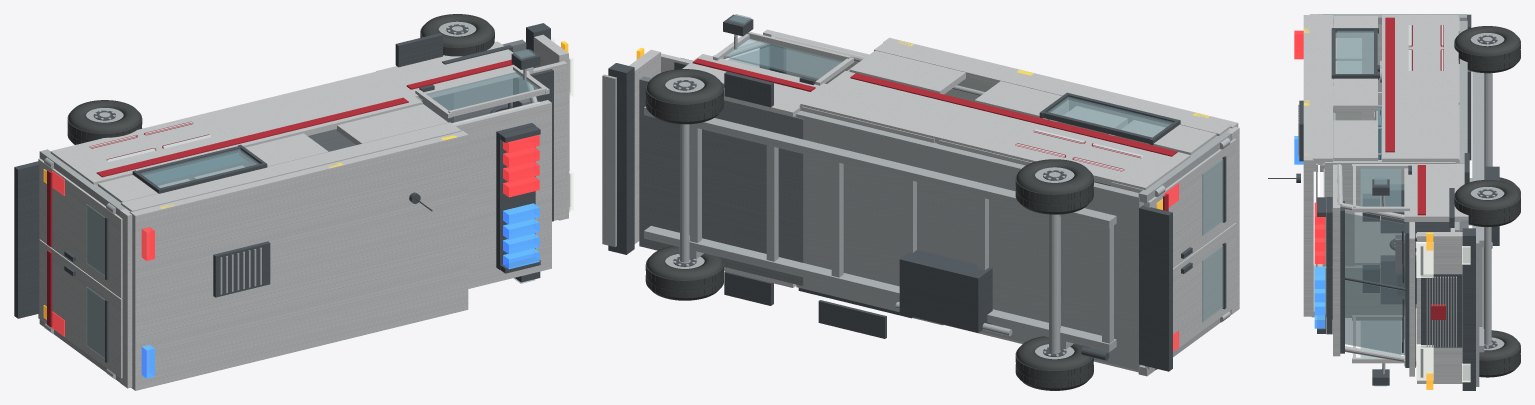
File: PZ_Greyhaven_EMS_Ambulance_07.glb
3 renders of one model, left to right at view 1: azimuth 30°, elevation 25°; view 2: azimuth 150°, elevation 25°; view 3: azimuth 270°, elevation 25°, orthographic. The views are drawn at different scales.
Visible parts, largest first — view 1: RENDER_GREYHAVEN_EMS_AMBULANCE_07_PATIENT_ROOF_STRUCTURAL_PA, RENDER_GREYHAVEN_EMS_AMBULANCE_07_PATIENT_LEFT_SOLID_LOWER, RENDER_GREYHAVEN_EMS_AMBULANCE_07_CAB_ROOF_SKIN, RENDER_GREYHAVEN_EMS_AMBULANCE_07_REAR_DOOR_SHELL_LEFT, RENDER_GREYHAVEN_EMS_AMBULANCE_07_REAR_DOOR_SHELL_RIGHT, RENDER_GREYHAVEN_EMS_AMBULANCE_07_PATIENT_LEFT_TOP_RAIL, RENDER_GREYHAVEN_EMS_AMBULANCE_07_REAR_STEP, RENDER_GREYHAVEN_EMS_AMBULANCE_07_CAB_DOOR_LOWER_1, RENDER_GREYHAVEN_EMS_AMBULANCE_07_FRONT_ENGINE_BONNET, RENDER_GREYHAVEN_EMS_AMBULANCE_07_PATIENT_LEFT_UPPER_PANEL_F, RENDER_GREYHAVEN_EMS_AMBULANCE_07_SIDE_RESCUE_STRIPE_L, RENDER_GREYHAVEN_EMS_AMBULANCE_07_CAB_DOOR_WINDOW_1 (+30 smaller); view 2: RENDER_GREYHAVEN_EMS_AMBULANCE_07_PATIENT_BAY_SUBFLOOR, RENDER_GREYHAVEN_EMS_AMBULANCE_07_CAB_FLOOR_PANEL, RENDER_GREYHAVEN_EMS_AMBULANCE_07_PATIENT_LEFT_SOLID_LOWER, RENDER_GREYHAVEN_EMS_AMBULANCE_07_FUEL_TANK, RENDER_GREYHAVEN_EMS_AMBULANCE_07_MAIN_CHASSIS_BEAM_LEFT, RENDER_GREYHAVEN_EMS_AMBULANCE_07_REAR_STEP, RENDER_GREYHAVEN_EMS_AMBULANCE_07_REAR_DOOR_SHELL_LEFT, RENDER_GREYHAVEN_EMS_AMBULANCE_07_MAIN_CHASSIS_BEAM_RIGHT, RENDER_GREYHAVEN_EMS_AMBULANCE_07_REAR_DOOR_SHELL_RIGHT, RENDER_GREYHAVEN_EMS_AMBULANCE_07_PATIENT_LEFT_TOP_RAIL, RENDER_GREYHAVEN_EMS_AMBULANCE_07_FRONT_LOWER_BUMPER, RENDER_GREYHAVEN_EMS_AMBULANCE_07_PATIENT_LEFT_UPPER_PANEL_F (+42 smaller); view 3: RENDER_GREYHAVEN_EMS_AMBULANCE_07_PATIENT_LEFT_SOLID_LOWER, RENDER_GREYHAVEN_EMS_AMBULANCE_07_WINDSHIELD_GLASS_-1, RENDER_GREYHAVEN_EMS_AMBULANCE_07_WINDSHIELD_GLASS_1, RENDER_GREYHAVEN_EMS_AMBULANCE_07_BULKHEAD_WITH_CAB_PASSAGE_ (×2), RENDER_GREYHAVEN_EMS_AMBULANCE_07_PATIENT_ROOF_STRUCTURAL_PA, RENDER_GREYHAVEN_EMS_AMBULANCE_07_PATIENT_LEFT_TOP_RAIL, RENDER_GREYHAVEN_EMS_AMBULANCE_07_FRONT_CRASH_PANEL, RENDER_GREYHAVEN_EMS_AMBULANCE_07_CAB_DOOR_LOWER_1, RENDER_GREYHAVEN_EMS_AMBULANCE_07_GRILLE_RECESSED_FRAME, RENDER_GREYHAVEN_EMS_AMBULANCE_07_FRONT_LOWER_BUMPER, RENDER_GREYHAVEN_EMS_AMBULANCE_07_PATIENT_LEFT_UPPER_PANEL_F, RENDER_GREYHAVEN_EMS_AMBULANCE_07_PATIENT_LEFT_GLASS (+57 smaller).
Boxes of the visible parts, <box> form: RENDER_GREYHAVEN_EMS_AMBULANCE_07_PATIENT_ROOF_STRUCTURAL_PA: <box>129,130,468,390</box>; RENDER_GREYHAVEN_EMS_AMBULANCE_07_PATIENT_LEFT_SOLID_LOWER: <box>50,70,422,185</box>; RENDER_GREYHAVEN_EMS_AMBULANCE_07_CAB_ROOF_SKIN: <box>454,100,551,288</box>; RENDER_GREYHAVEN_EMS_AMBULANCE_07_REAR_DOOR_SHELL_LEFT: <box>38,158,122,298</box>; RENDER_GREYHAVEN_EMS_AMBULANCE_07_REAR_DOOR_SHELL_RIGHT: <box>38,239,122,378</box>; RENDER_GREYHAVEN_EMS_AMBULANCE_07_PATIENT_LEFT_TOP_RAIL: <box>121,122,461,211</box>; RENDER_GREYHAVEN_EMS_AMBULANCE_07_REAR_STEP: <box>14,161,39,318</box>; RENDER_GREYHAVEN_EMS_AMBULANCE_07_CAB_DOOR_LOWER_1: <box>376,41,533,100</box>; RENDER_GREYHAVEN_EMS_AMBULANCE_07_FRONT_ENGINE_BONNET: <box>533,61,567,220</box>; RENDER_GREYHAVEN_EMS_AMBULANCE_07_PATIENT_LEFT_UPPER_PANEL_F: <box>337,104,447,144</box>; RENDER_GREYHAVEN_EMS_AMBULANCE_07_SIDE_RESCUE_STRIPE_L: <box>96,97,408,177</box>; RENDER_GREYHAVEN_EMS_AMBULANCE_07_CAB_DOOR_WINDOW_1: <box>426,72,539,110</box>; RENDER_GREYHAVEN_EMS_AMBULANCE_07_PATIENT_BAY_SUBFLOOR: <box>796,110,1143,370</box>; RENDER_GREYHAVEN_EMS_AMBULANCE_07_CAB_FLOOR_PANEL: <box>639,76,803,285</box>; RENDER_GREYHAVEN_EMS_AMBULANCE_07_PATIENT_LEFT_SOLID_LOWER: <box>800,71,1190,189</box>; RENDER_GREYHAVEN_EMS_AMBULANCE_07_FUEL_TANK: <box>899,250,992,332</box>; RENDER_GREYHAVEN_EMS_AMBULANCE_07_MAIN_CHASSIS_BEAM_LEFT: <box>644,106,1116,228</box>; RENDER_GREYHAVEN_EMS_AMBULANCE_07_REAR_STEP: <box>1139,205,1172,371</box>; RENDER_GREYHAVEN_EMS_AMBULANCE_07_REAR_DOOR_SHELL_LEFT: <box>1145,138,1236,267</box>; RENDER_GREYHAVEN_EMS_AMBULANCE_07_MAIN_CHASSIS_BEAM_RIGHT: <box>644,226,1116,351</box>; RENDER_GREYHAVEN_EMS_AMBULANCE_07_REAR_DOOR_SHELL_RIGHT: <box>1145,223,1236,369</box>; RENDER_GREYHAVEN_EMS_AMBULANCE_07_PATIENT_LEFT_TOP_RAIL: <box>874,41,1231,135</box>; RENDER_GREYHAVEN_EMS_AMBULANCE_07_FRONT_LOWER_BUMPER: <box>608,63,634,254</box>; RENDER_GREYHAVEN_EMS_AMBULANCE_07_PATIENT_LEFT_UPPER_PANEL_F: <box>849,50,965,94</box>; RENDER_GREYHAVEN_EMS_AMBULANCE_07_PATIENT_LEFT_SOLID_LOWER: <box>1382,15,1458,163</box>; RENDER_GREYHAVEN_EMS_AMBULANCE_07_WINDSHIELD_GLASS_-1: <box>1345,280,1405,355</box>; RENDER_GREYHAVEN_EMS_AMBULANCE_07_WINDSHIELD_GLASS_1: <box>1345,212,1405,288</box>; RENDER_GREYHAVEN_EMS_AMBULANCE_07_BULKHEAD_WITH_CAB_PASSAGE_ (×2): <box>1324,160,1455,314</box>; RENDER_GREYHAVEN_EMS_AMBULANCE_07_PATIENT_ROOF_STRUCTURAL_PA: <box>1303,15,1313,316</box>; RENDER_GREYHAVEN_EMS_AMBULANCE_07_PATIENT_LEFT_TOP_RAIL: <box>1312,15,1332,163</box>; RENDER_GREYHAVEN_EMS_AMBULANCE_07_FRONT_CRASH_PANEL: <box>1417,232,1462,383</box>; RENDER_GREYHAVEN_EMS_AMBULANCE_07_CAB_DOOR_LOWER_1: <box>1404,163,1468,221</box>; RENDER_GREYHAVEN_EMS_AMBULANCE_07_GRILLE_RECESSED_FRAME: <box>1421,274,1462,347</box>; RENDER_GREYHAVEN_EMS_AMBULANCE_07_FRONT_LOWER_BUMPER: <box>1462,228,1475,390</box>; RENDER_GREYHAVEN_EMS_AMBULANCE_07_PATIENT_LEFT_UPPER_PANEL_F: <box>1333,120,1377,160</box>; RENDER_GREYHAVEN_EMS_AMBULANCE_07_PATIENT_LEFT_GLASS: <box>1336,30,1373,73</box>.
Bounding box in the file's own units: 7.34 × 2.96 × 3.35.
Materials: 15 (15 with a texture image).
